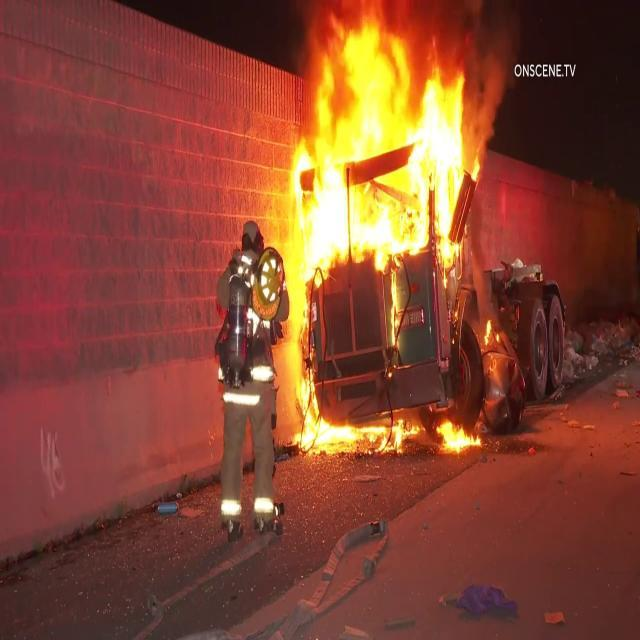Fire: (278, 1, 482, 275), (293, 399, 482, 456)
